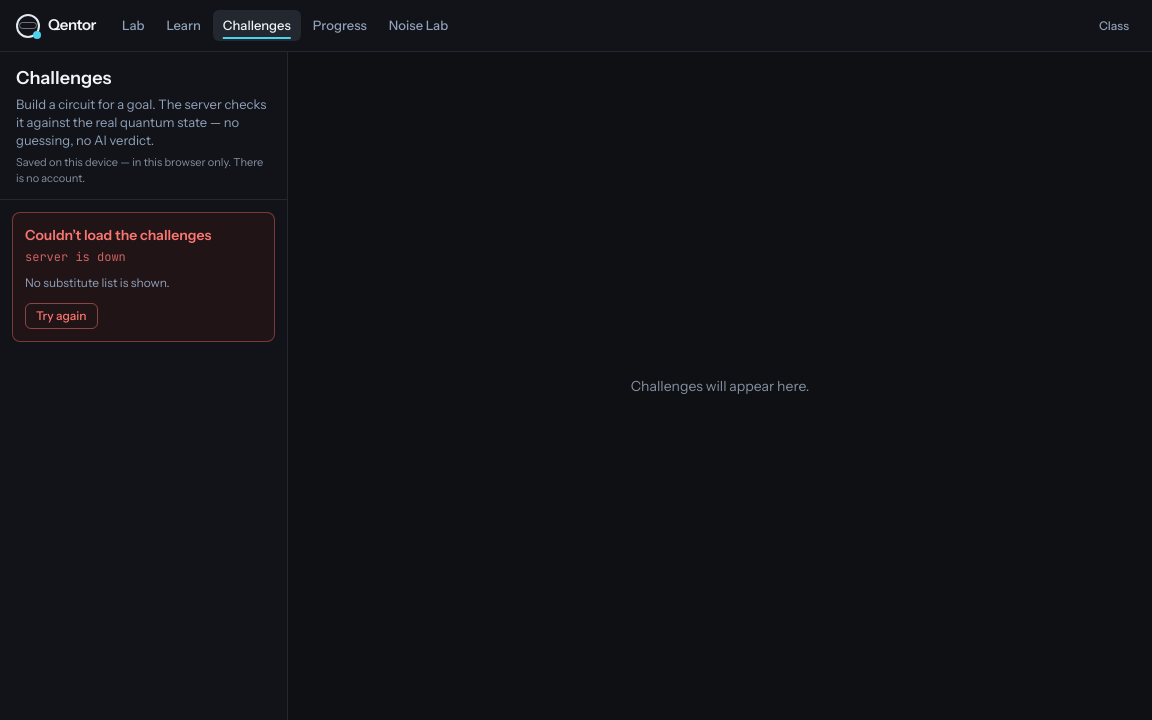
Test: the list › a load failure is an alert with retry, and nothing invented
The width and height of the screenshot is (1152, 720).
Check: the message shows "Couldn’t load the challenges", box [25, 226, 211, 244]
Check: the message shows "server is down", box [25, 249, 126, 265]
Click the button "Try again".
click(61, 316)  # box [25, 303, 98, 329]
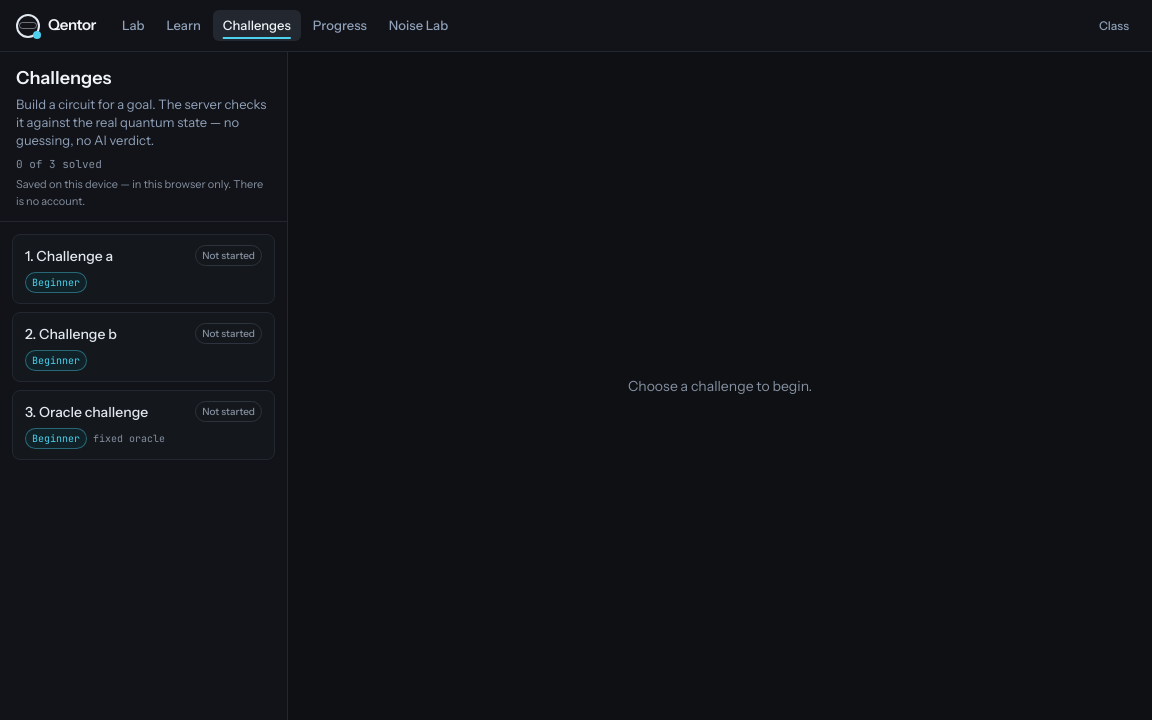
Check: the navigation bar named "Challenges" is shown, box [12, 234, 275, 460]
Check: the message is gone
